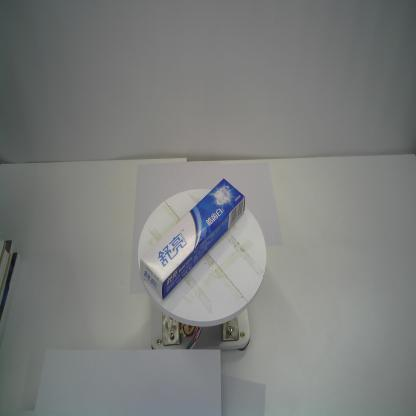Personal Hygiene: (137, 176, 247, 301)
